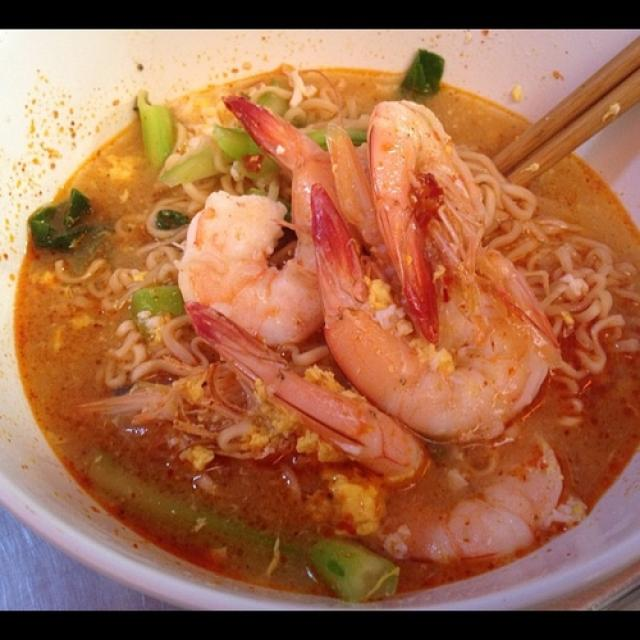汤锅炖物: (69, 64, 581, 549)
